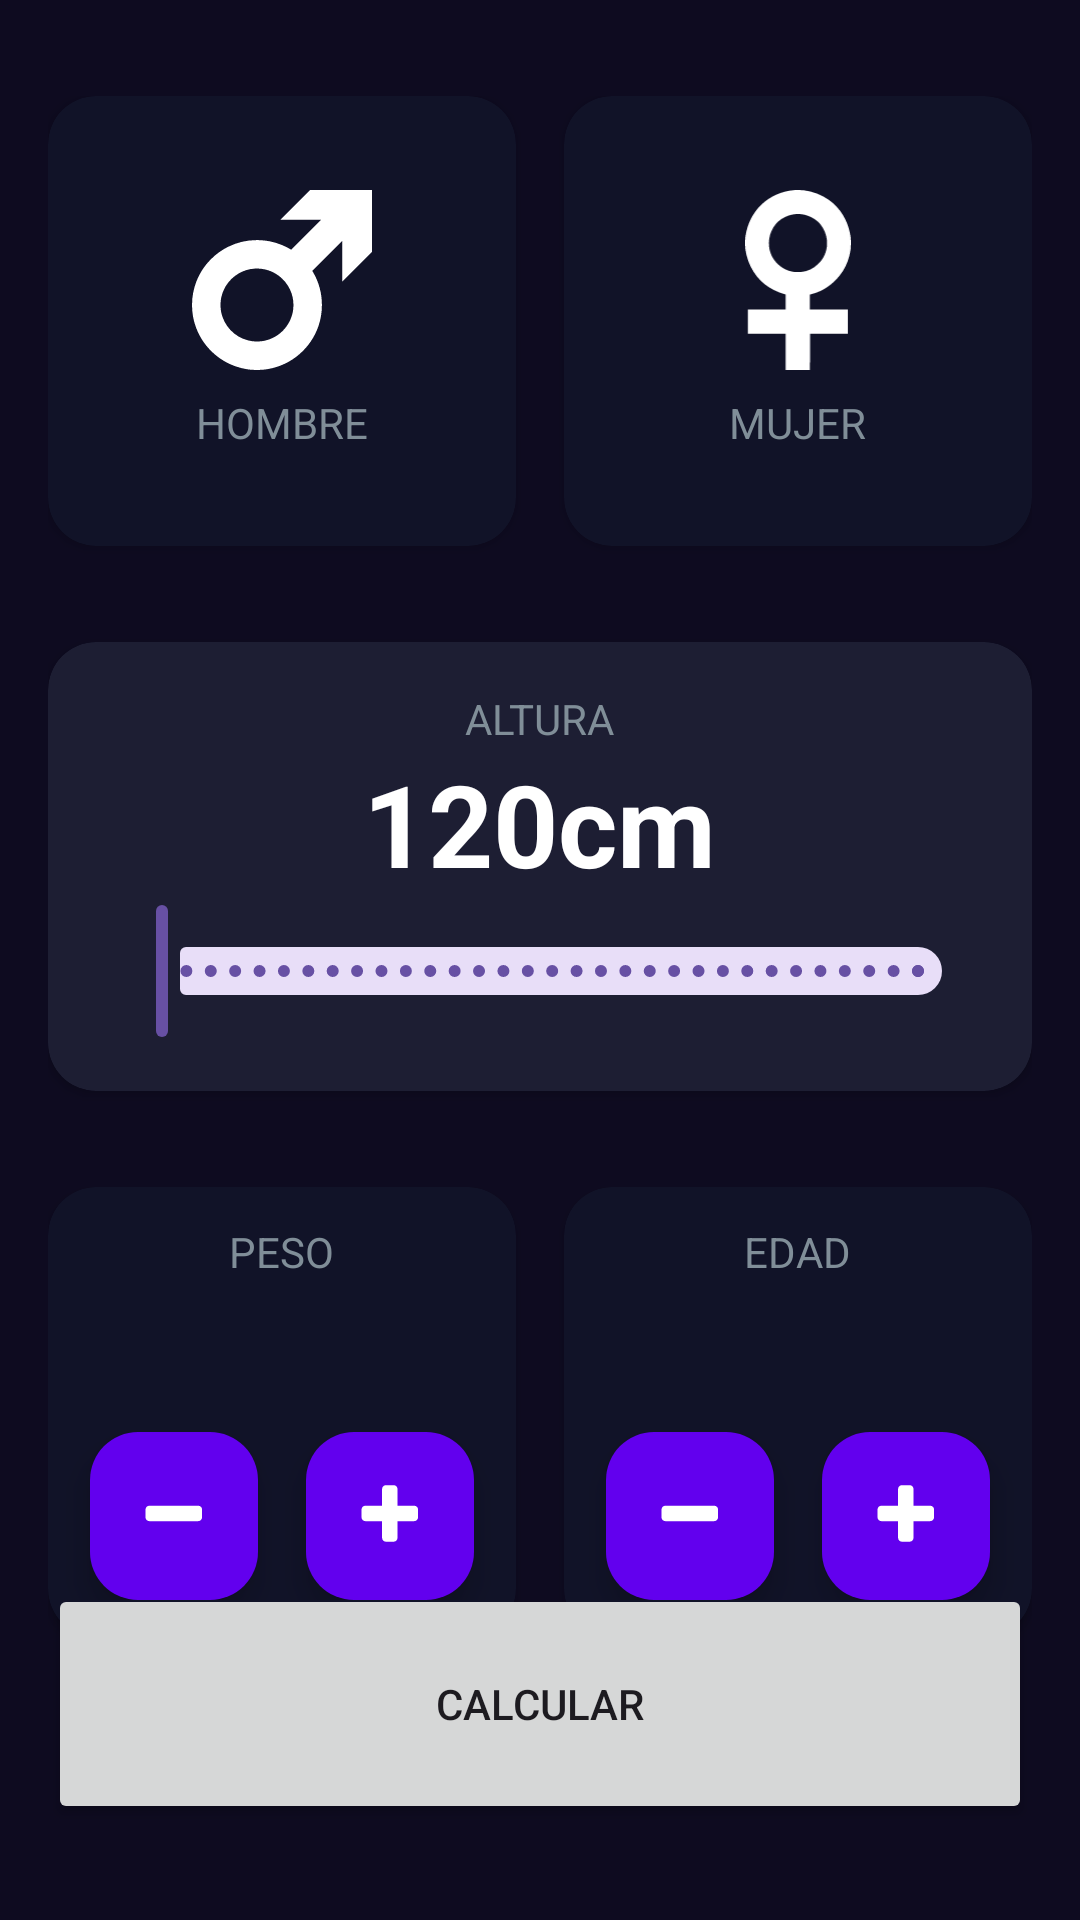

Icon click points for this 1080 x 1920 phone screenshot, format (x=x, y=y):
minus: (x=174, y=1516), (x=690, y=1516)
plus: (x=390, y=1516), (x=906, y=1516)
